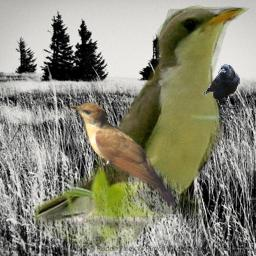Crow: (199, 62, 240, 118)
Cuckoo: (35, 0, 250, 254), (69, 102, 174, 206)
